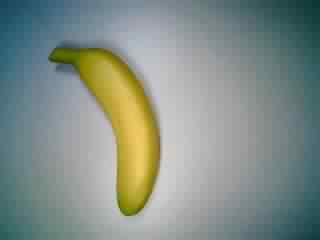banana: (46, 43, 162, 218)
